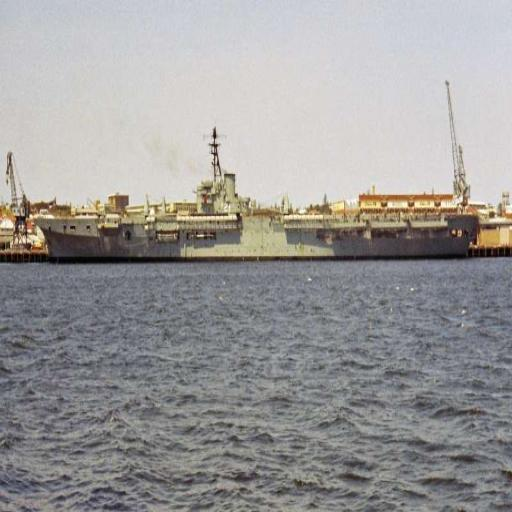Portanaves: (33, 118, 484, 270)
